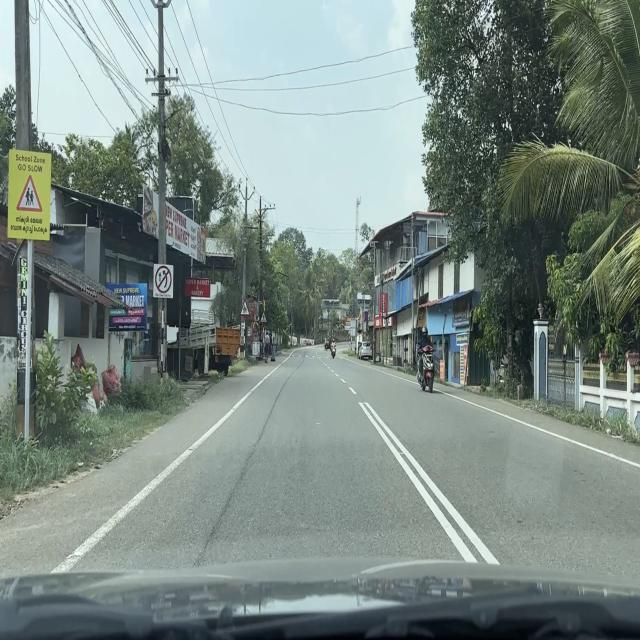OVERTAKING_PROHIBITED: (152, 263, 175, 300)
SCHOOL_AHEAD: (15, 173, 43, 214), (240, 298, 250, 316)
